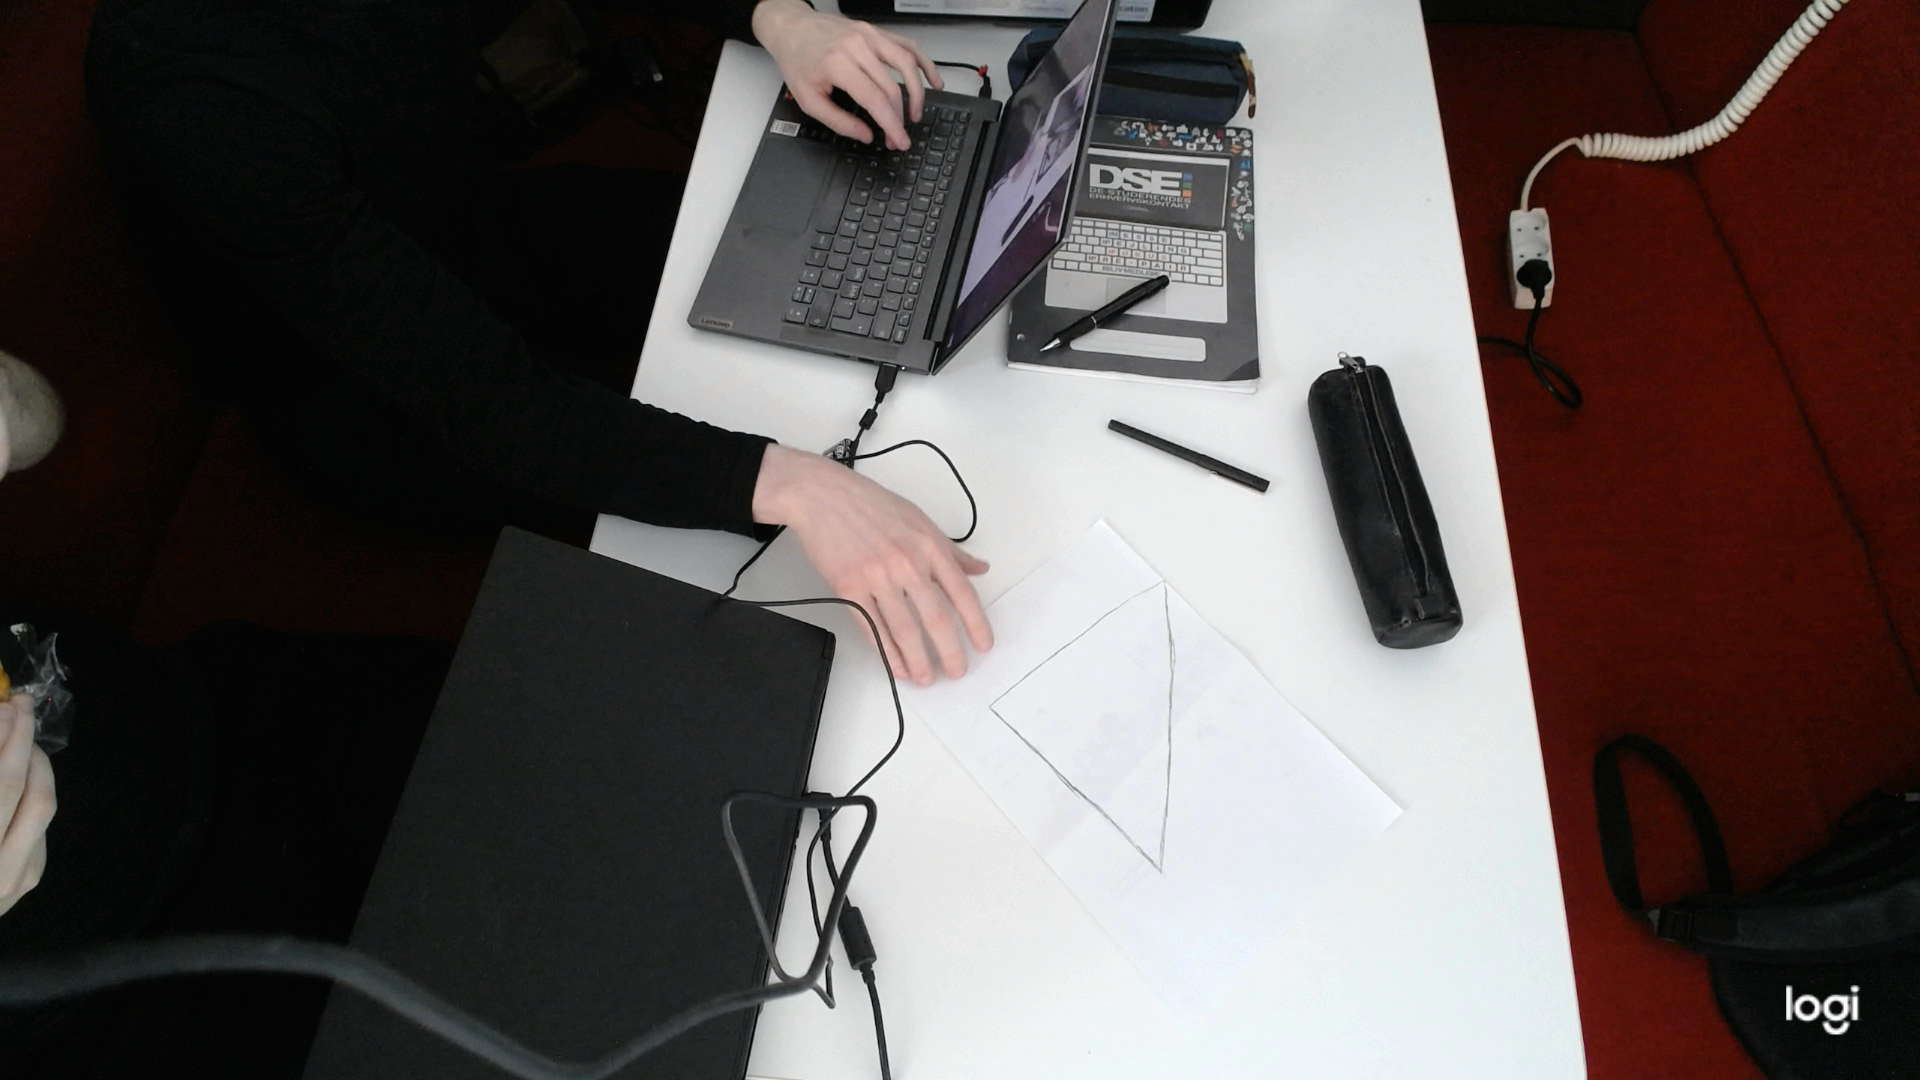Triangle: (982, 578, 1182, 877)
